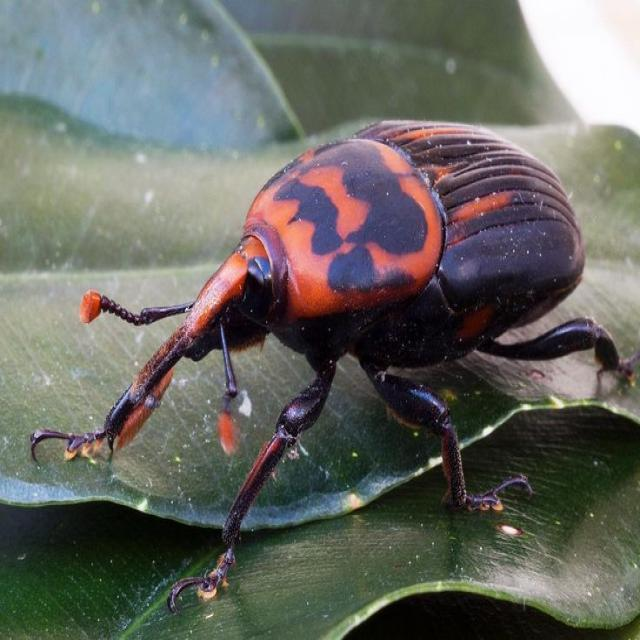Red-palm-weevil: (79, 111, 620, 545)
